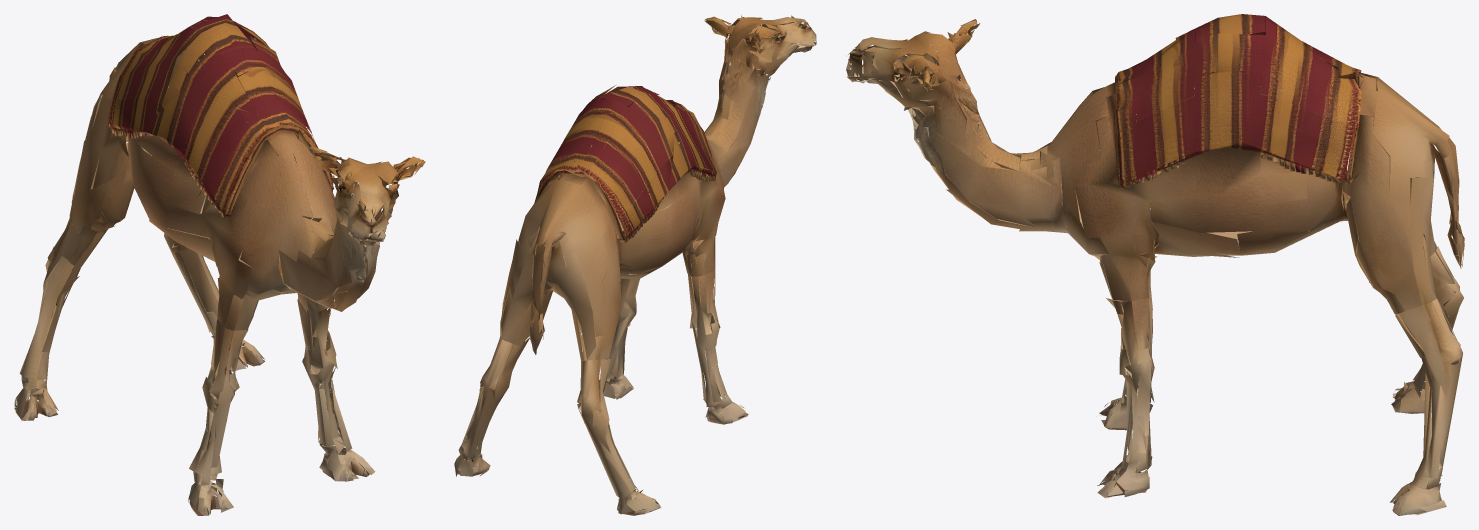
File: camel-parts.glb
The picture shows the model from 3 angles, left to right: view 1: azimuth 30°, elevation 25°; view 2: azimuth 150°, elevation 25°; view 3: azimuth 270°, elevation 25°; orthographic projection. The views are drawn at different scales.
Parts seen in each view (by area): view 1: camel_body, leg_AL, leg_BL, leg_BR, leg_AR; view 2: camel_body, leg_AL, leg_BL, leg_AR, leg_BR; view 3: camel_body, leg_AR, leg_BR, leg_AL, leg_BL.
Boxes of the visible parts, x1,y1,x2,y2 form: camel_body: [69, 14, 425, 330]; leg_AL: [14, 217, 106, 421]; leg_BL: [188, 319, 248, 515]; leg_BR: [297, 298, 375, 481]; leg_AR: [164, 233, 265, 371]; camel_body: [500, 15, 816, 360]; leg_AL: [577, 347, 661, 515]; leg_BL: [688, 270, 748, 424]; leg_AR: [454, 335, 529, 476]; leg_BR: [599, 278, 639, 399]; camel_body: [846, 14, 1464, 313]; leg_AR: [1387, 299, 1462, 515]; leg_BR: [1097, 294, 1154, 498]; leg_AL: [1391, 245, 1463, 413]; leg_BL: [1099, 269, 1154, 430].
Size of the model in its own units: 1.21 by 2.01 by 2.56.
Materials: 1 (1 with a texture image).
